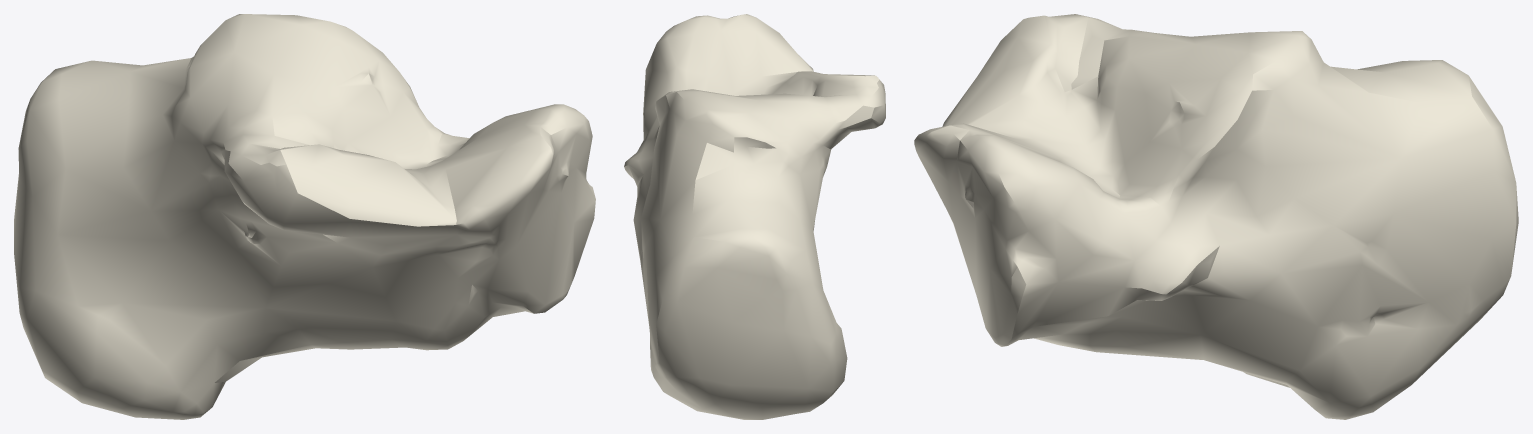
File: fma24498_fj6367.glb
3 views of the same model, side by side, from view 1: azimuth 30°, elevation 25°; view 2: azimuth 150°, elevation 25°; view 3: azimuth 270°, elevation 25° (orthographic). The views are drawn at different scales.
Visible parts, largest first — view 1: FMA24498_FJ6367; view 2: FMA24498_FJ6367; view 3: FMA24498_FJ6367.
Part boxes in pixels (box(x1,y1,x2,y2)): FMA24498_FJ6367: box(14, 14, 595, 419); FMA24498_FJ6367: box(624, 14, 885, 419); FMA24498_FJ6367: box(914, 14, 1518, 419).
Size of the model in its own units: 0.0558 by 0.049 by 0.07.
